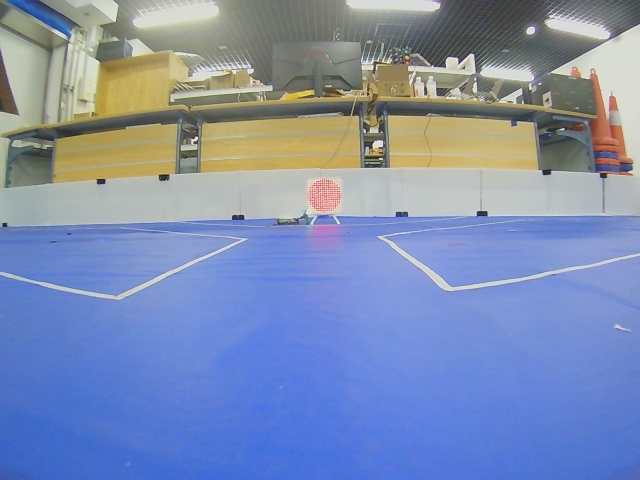red: (308, 178, 342, 213)
